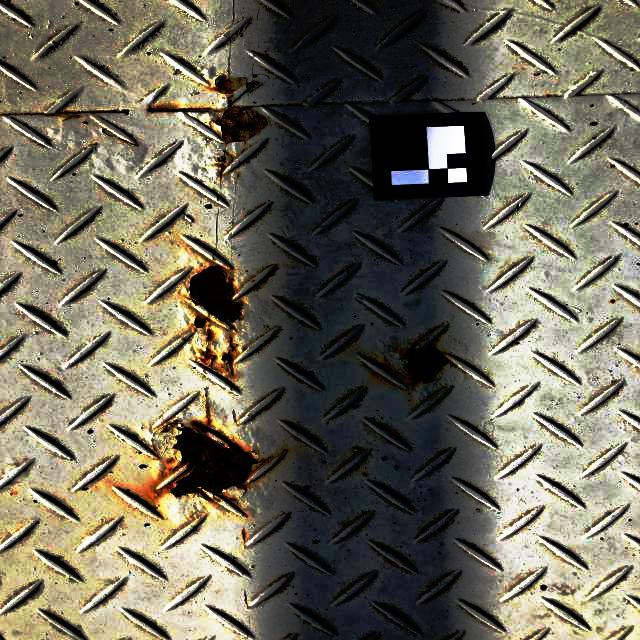Corrosion: (158, 418, 256, 506), (189, 265, 243, 323), (193, 316, 239, 381), (213, 107, 262, 142), (404, 346, 450, 383), (210, 75, 231, 93), (151, 102, 177, 110), (61, 114, 80, 122), (218, 165, 227, 175), (226, 97, 232, 105)
